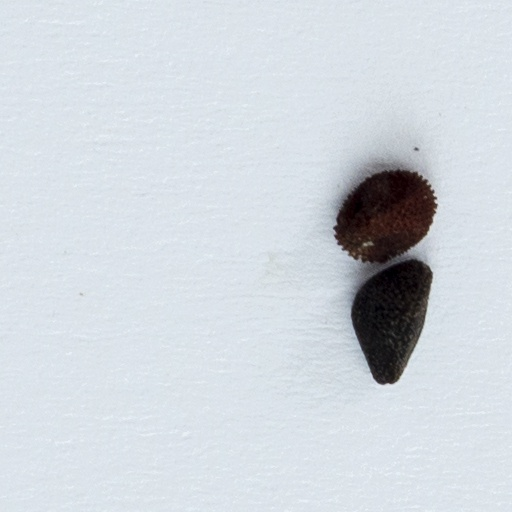Agrostemma-poly: (332, 165, 439, 262)
Convolvulus-poly: (347, 256, 433, 384)
